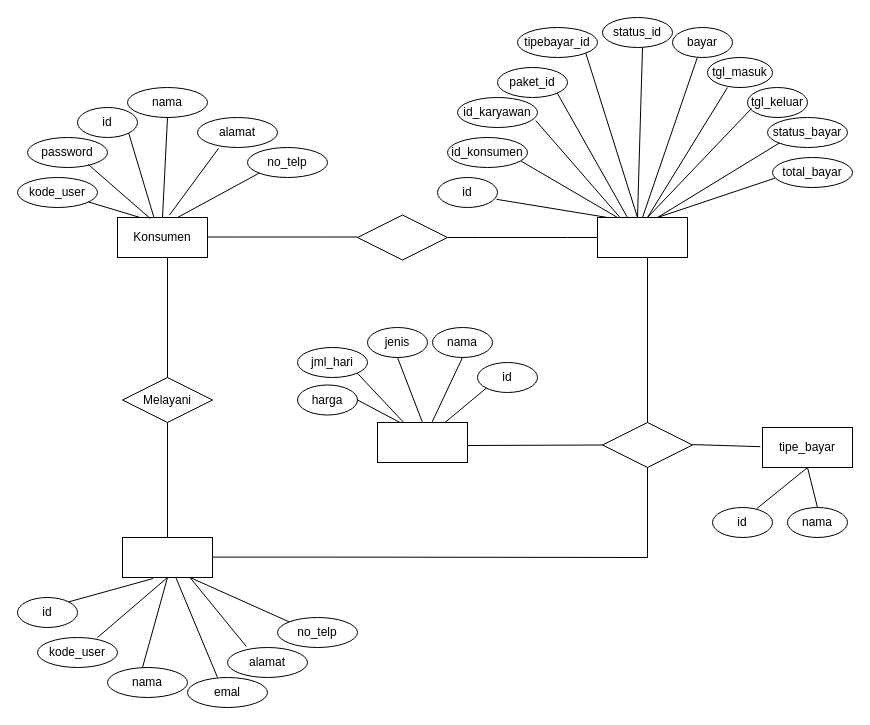
Some shapes in this 870 by 725 pixel diagram are drawn without their labels. Each missing label, with the box of its shape:
Dikelola: (602, 422, 692, 468)
Melakukan: (356, 214, 448, 260)
Paket: (376, 422, 468, 462)
Petugas: (122, 536, 212, 578)
Transaksi: (596, 216, 688, 258)
